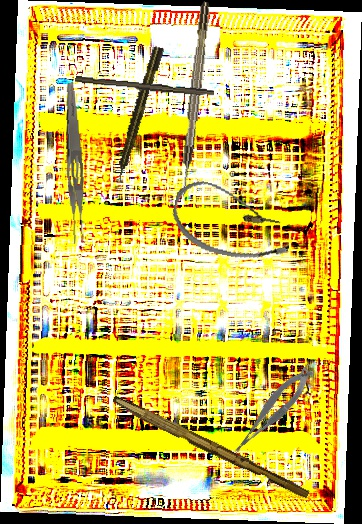Cannula: (166, 176, 299, 269)
Dressing Forceps: (58, 82, 89, 244)
Handpiece: (111, 45, 166, 184)
Hook Surgical: (176, 1, 213, 199)
Micro Scissor: (221, 362, 322, 459)
Scalpel Handle: (108, 394, 313, 501), (74, 75, 215, 99)
